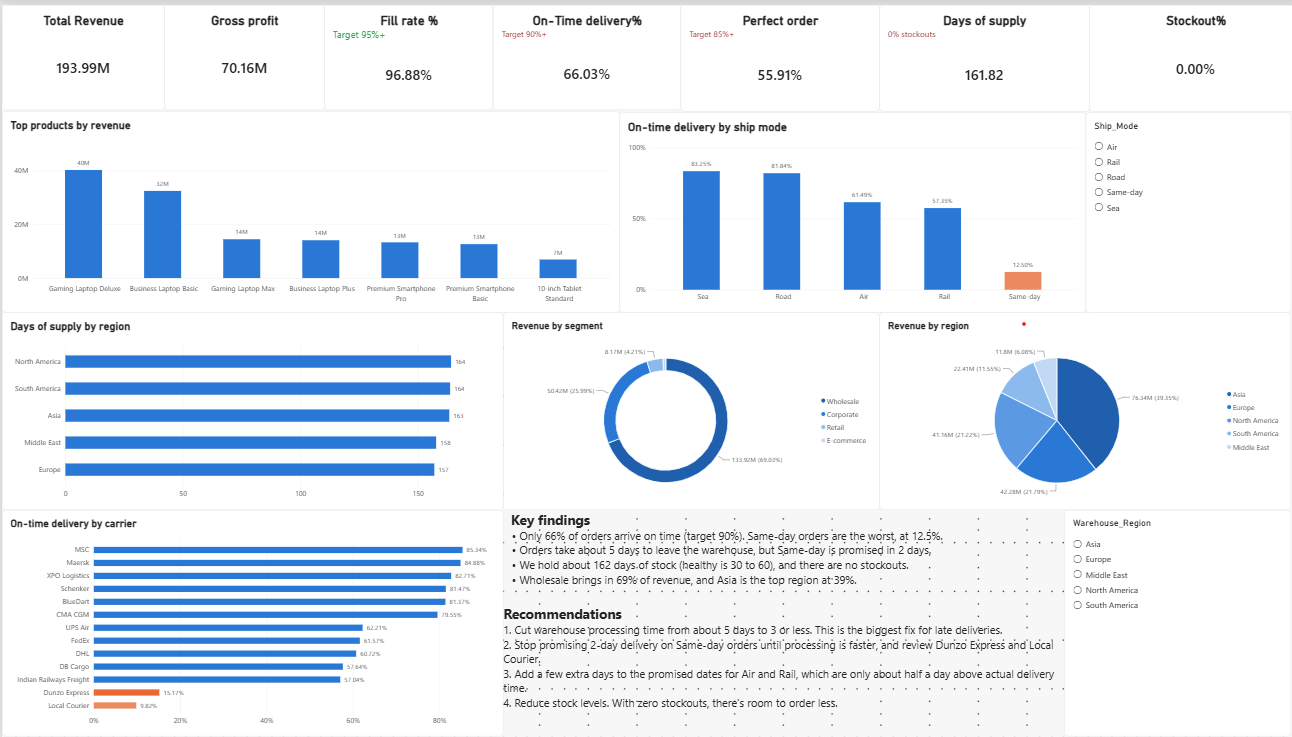

Layout of this report page (visuals, bound fields, positions):
{"tool":"powerbi","page":{"name":"Supply chain analysis Dashboard ","canvas":[2560,1440],"ordinal":4},"visuals":[{"type":"card","title":"Total Revenue","fields":{"Values":["Dim_Customer.Total_revenue"]},"box":[0,0,320,206.8],"z":0},{"type":"card","title":"Gross profit ","fields":{"Values":["Dim_Customer.Gross_profit"]},"box":[320,0,315.1,206.8],"z":1000},{"type":"card","title":"Fill rate %","fields":{"Values":["Fact_Orders.Fill_rate%"]},"box":[635.1,0,332.3,206.8],"z":2000},{"type":"card","title":"On-Time delivery%","fields":{"Values":["Fact_Orders.On_time%"]},"box":[967.4,0,369.2,206.8],"z":3000},{"type":"card","title":"Perfect order","fields":{"Values":["Fact_Orders.perfect_order"]},"box":[1336.6,0,391.4,209.2],"z":4000},{"type":"donutChart","title":"Revenue by segment ","fields":{"Category":["Dim_Customer.Customer_Segment"],"Y":["Dim_Customer.Total_revenue"]},"box":[987.1,605.5,740.9,388.9],"z":5000},{"type":"columnChart","title":"Top products by revenue","fields":{"Category":["Dim_Product.Product_Name"],"Y":["Dim_Customer.Total_revenue"]},"box":[0,209.2,1216,396.3],"z":6000},{"type":"clusteredBarChart","title":"On-time delivery by carrier","fields":{"Category":["Fact_Orders.Carrier"],"Y":["Fact_Orders.On_time%"]},"box":[0,994.5,987.1,445.5],"z":7000},{"type":"pieChart","title":"Revenue by region ","fields":{"Category":["Dim_Customer.Customer_Region"],"Y":["Dim_Customer.Total_revenue"]},"box":[1728,605.5,812.3,388.9],"z":8000},{"type":"clusteredColumnChart","title":"On-time delivery by ship mode","fields":{"Category":["Fact_Orders.Ship_Mode"],"Y":["Fact_Orders.On_time%"]},"box":[1216,211.7,918.2,393.8],"z":9000},{"type":"card","title":"Stockout%","fields":{"Values":["Fact_Inventory.Stock_out%"]},"box":[2141.5,0,418.5,209.2],"z":10000},{"type":"clusteredBarChart","title":"Days of supply by region ","fields":{"Category":["Dim_Warehouse.Warehouse_Region"],"Y":["Dim_Customer.Days_of_supply"]},"box":[0,605.5,987.1,388.9],"z":11000},{"type":"card","title":"Days of supply","fields":{"Values":["Dim_Customer.Days_of_supply"]},"box":[1728,0,413.5,209.2],"z":13000},{"type":"listSlicer","fields":{"Values":["Fact_Orders.Ship_Mode"]},"box":[2134.2,211.7,406.2,393.8],"z":13001},{"type":"textbox","box":[987.1,994.5,1105.2,445.5],"z":13002},{"type":"listSlicer","fields":{"Values":["Dim_Warehouse.Warehouse_Region"]},"box":[2092.3,994.5,448,445.5],"z":13003}]}

Visuals, with their boxes in screenshot pixels (x1, y1, x2, y2), scaled from the page's 2560x1440 canvas onto the 1292x737 screenshot:
"Total Revenue" card: (x1=0, y1=0, x2=162, y2=106)
"Gross profit " card: (x1=162, y1=0, x2=321, y2=106)
"Fill rate %" card: (x1=321, y1=0, x2=488, y2=106)
"On-Time delivery%" card: (x1=488, y1=0, x2=675, y2=106)
"Perfect order" card: (x1=675, y1=0, x2=872, y2=107)
"Revenue by segment " donutChart: (x1=498, y1=310, x2=872, y2=509)
"Top products by revenue" columnChart: (x1=0, y1=107, x2=614, y2=310)
"On-time delivery by carrier" clusteredBarChart: (x1=0, y1=509, x2=498, y2=736)
"Revenue by region " pieChart: (x1=872, y1=310, x2=1282, y2=509)
"On-time delivery by ship mode" clusteredColumnChart: (x1=614, y1=108, x2=1077, y2=310)
"Stockout%" card: (x1=1081, y1=0, x2=1291, y2=107)
"Days of supply by region " clusteredBarChart: (x1=0, y1=310, x2=498, y2=509)
"Days of supply" card: (x1=872, y1=0, x2=1081, y2=107)
listSlicer - Fact_Orders.Ship_Mode: (x1=1077, y1=108, x2=1282, y2=310)
textbox: (x1=498, y1=509, x2=1056, y2=736)
listSlicer - Dim_Warehouse.Warehouse_Region: (x1=1056, y1=509, x2=1282, y2=736)
